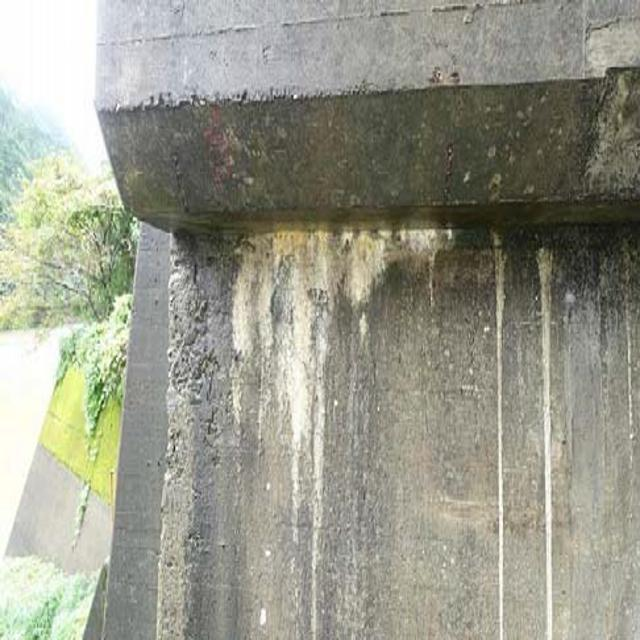freelime: (215, 198, 454, 478)
